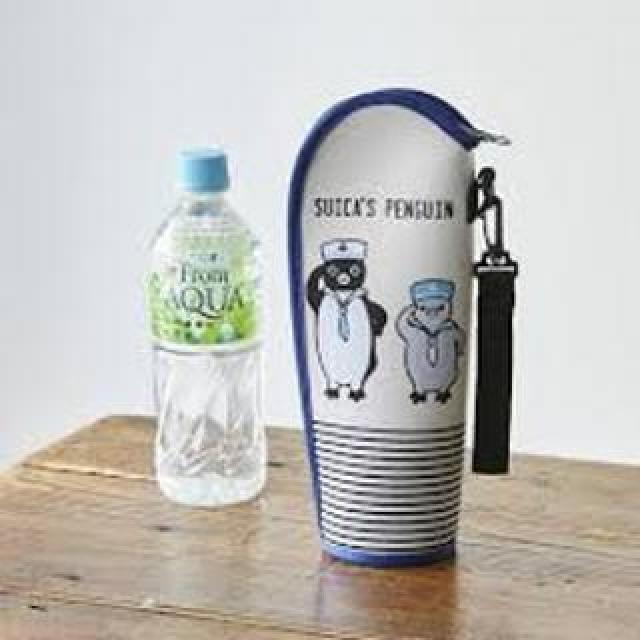Pet_Bottle: (139, 143, 277, 513)
